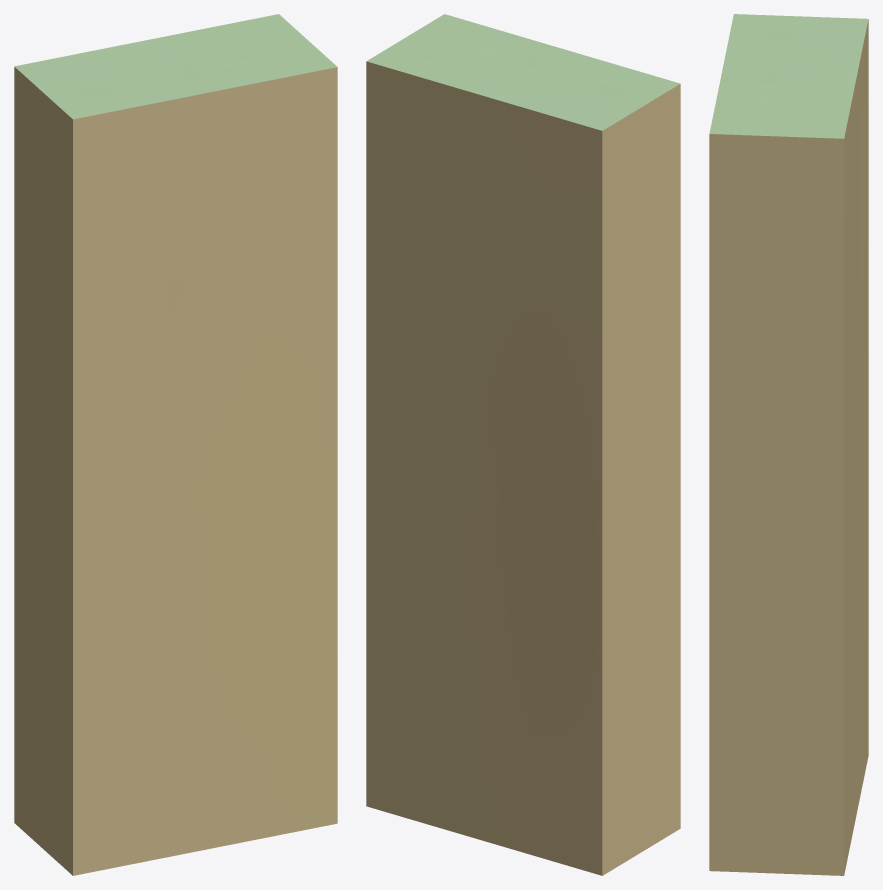
File: Blocks-102.fbx
3 views of the same model, side by side, from view 1: azimuth 30°, elevation 25°; view 2: azimuth 150°, elevation 25°; view 3: azimuth 270°, elevation 25° (orthographic). The views are drawn at different scales.
Visible parts, largest first — view 1: Blocks-102; view 2: Blocks-102; view 3: Blocks-102.
Boxes of the visible parts, <box> form: Blocks-102: <box>14,14,337,875</box>; Blocks-102: <box>366,14,680,875</box>; Blocks-102: <box>709,14,868,875</box>.
Bounding box in the file's own units: 11549 × 31798 × 6220.
